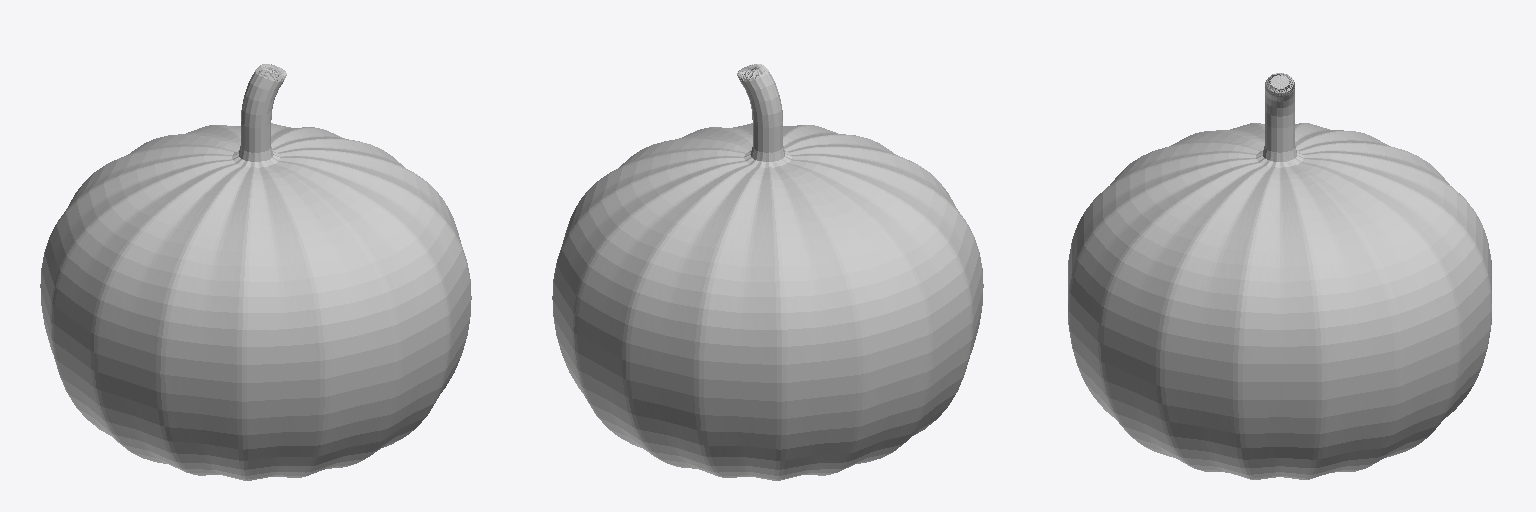
Rendered from simple_pumpkin_form.obj.
3 views of the same model, side by side, from view 1: azimuth 30°, elevation 25°; view 2: azimuth 150°, elevation 25°; view 3: azimuth 270°, elevation 25° (orthographic).
Parts seen in each view (by area): view 1: Sphere; view 2: Sphere; view 3: Sphere.
Part boxes in pixels (x1,y1,x2,y2): Sphere: (40,64,471,480); Sphere: (552,64,983,480); Sphere: (1068,73,1491,479).
Bounding box in the file's own units: 5.71 × 5.54 × 5.71.